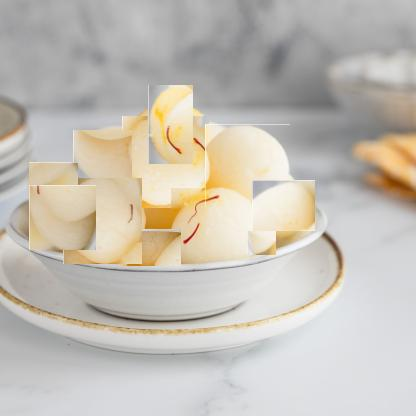rasgulla: (122, 118, 210, 207), (205, 124, 290, 207), (62, 180, 144, 263), (172, 187, 260, 264), (30, 185, 96, 250), (140, 93, 202, 156), (74, 128, 132, 185), (255, 177, 312, 234), (117, 228, 181, 266), (28, 162, 78, 209), (249, 230, 275, 257)
